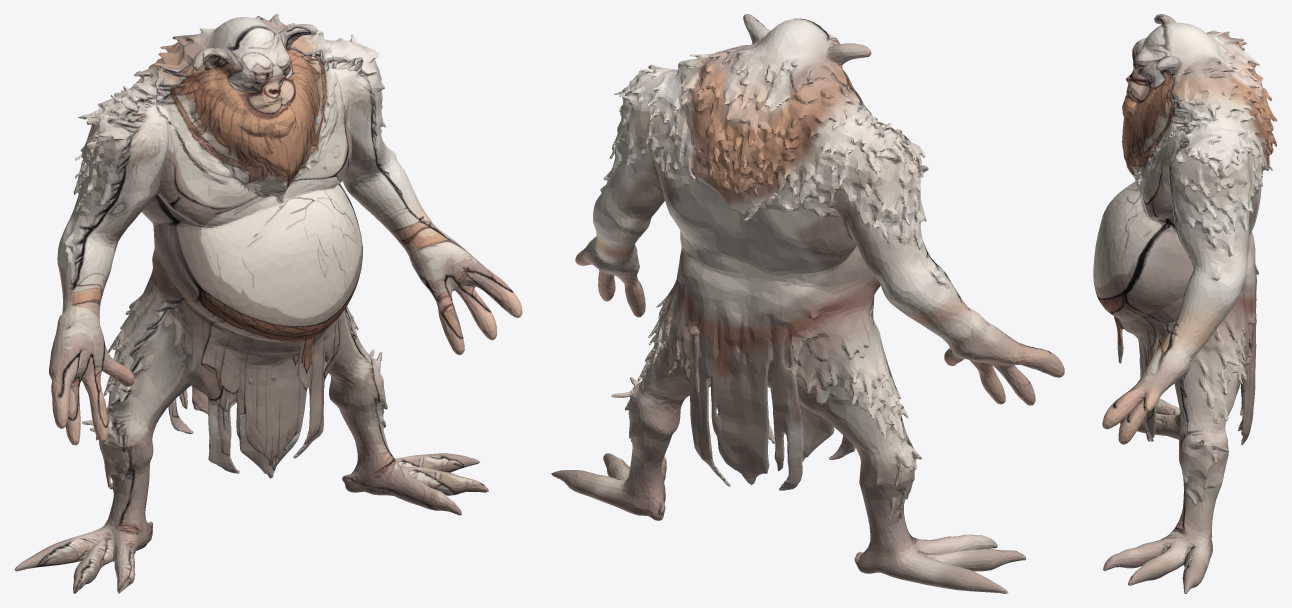
Rendered from ogrekin_townsperson_local.glb.
The picture shows the model from 3 angles, left to right: view 1: azimuth 30°, elevation 25°; view 2: azimuth 150°, elevation 25°; view 3: azimuth 270°, elevation 25°; orthographic projection. The views are drawn at different scales.
Visible parts, largest first — view 1: geometry_0; view 2: geometry_0; view 3: geometry_0.
Boxes of the visible parts, left/top/right/bottom form: geometry_0: left=14, top=14, right=522, bottom=593; geometry_0: left=551, top=14, right=1064, bottom=593; geometry_0: left=1093, top=14, right=1277, bottom=593.
Size of the model in its own units: 2.28 by 2.4 by 0.8504.
Materials: 1 (1 with a texture image).
